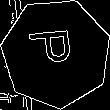P_E: (30, 33, 83, 74)
